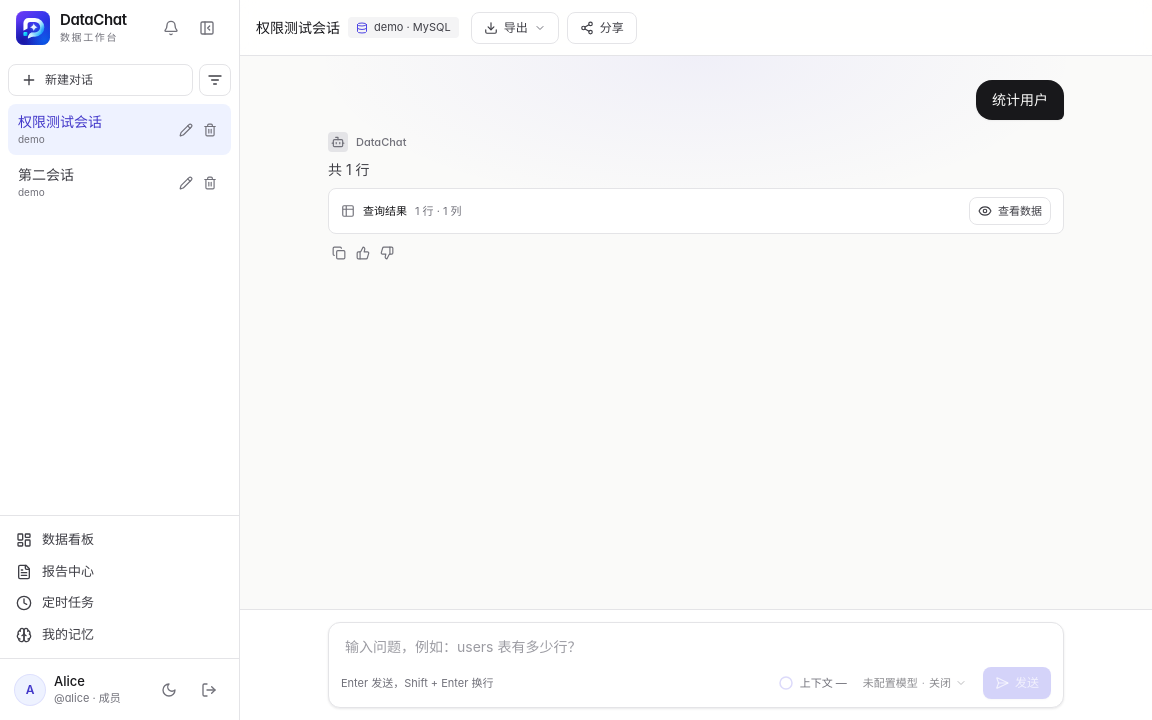
Test: ChatPage permission gates › switches conversations without duplicate React key warnings and resets composer draft
Check: the text "共 1 行" is shown, box [328,161,370,178]
In the text box labelled "输入问题": (696, 647) [337,631,1055,663], type "未发送的草稿"
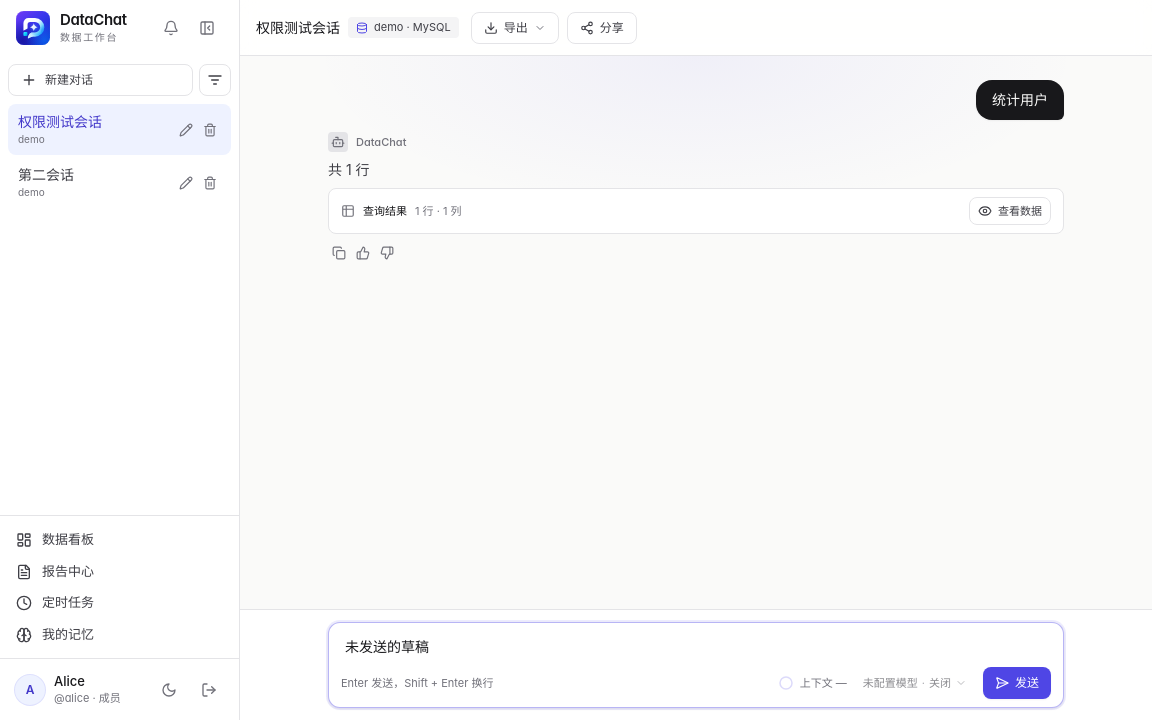
Click the button "第二会话 demo": (94, 182) [18,165,171,200]
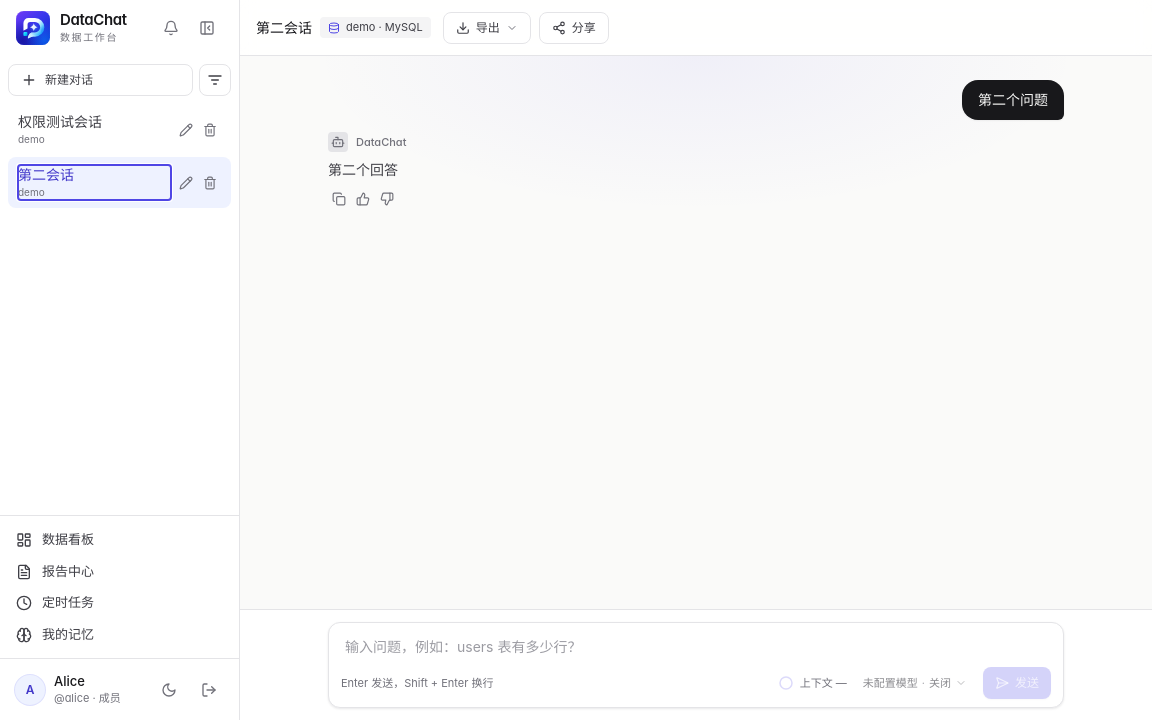
Check: the text "第二个回答" is shown, box [328,161,398,178]
Check: the text box labelled "输入问题" is empty, box [337,631,1055,663]
